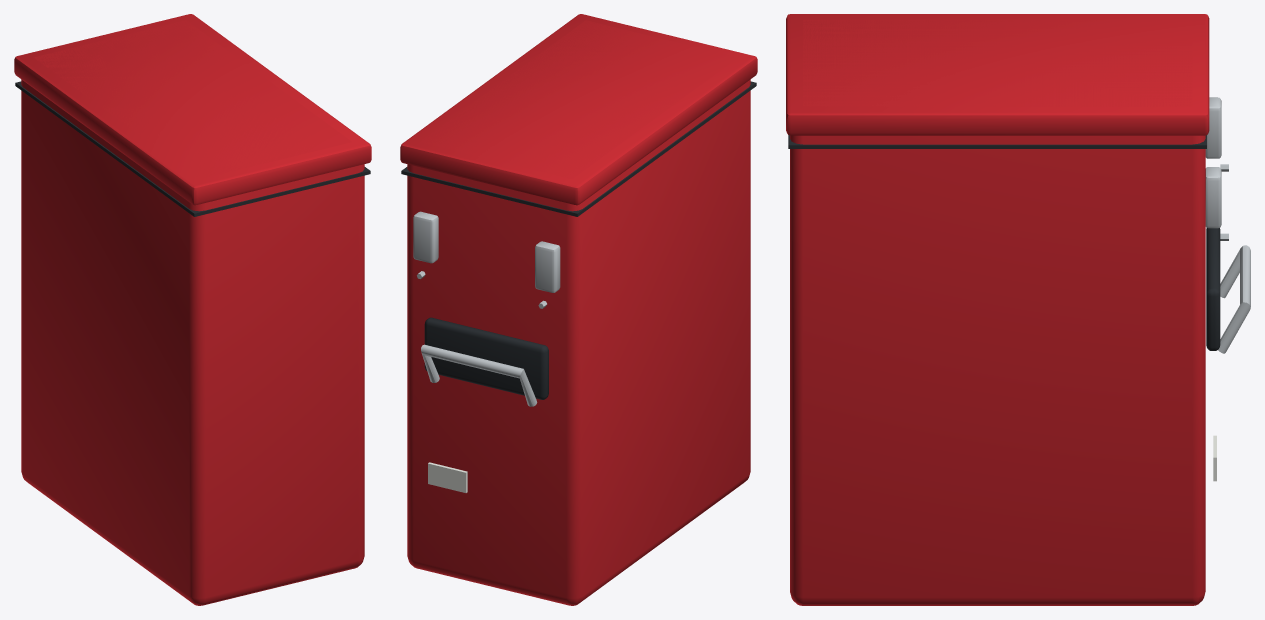
The model's file is ob_red_case_g2.glb.
3 views of the same model, side by side, from view 1: azimuth 30°, elevation 25°; view 2: azimuth 150°, elevation 25°; view 3: azimuth 270°, elevation 25° (orthographic). The views are drawn at different scales.
Parts seen in each view (by area): view 1: ob_red_case_g2; view 2: ob_red_case_g2; view 3: ob_red_case_g2.
Boxes of the visible parts, x1=… form: ob_red_case_g2: x1=14, y1=14, x2=371, y2=605; ob_red_case_g2: x1=400, y1=14, x2=757, y2=605; ob_red_case_g2: x1=786, y1=14, x2=1250, y2=605.
Size of the model in its own units: 0.23 by 0.52 by 0.44.
